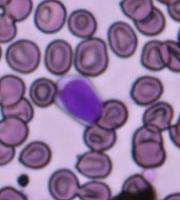L: (52, 74, 105, 126)
